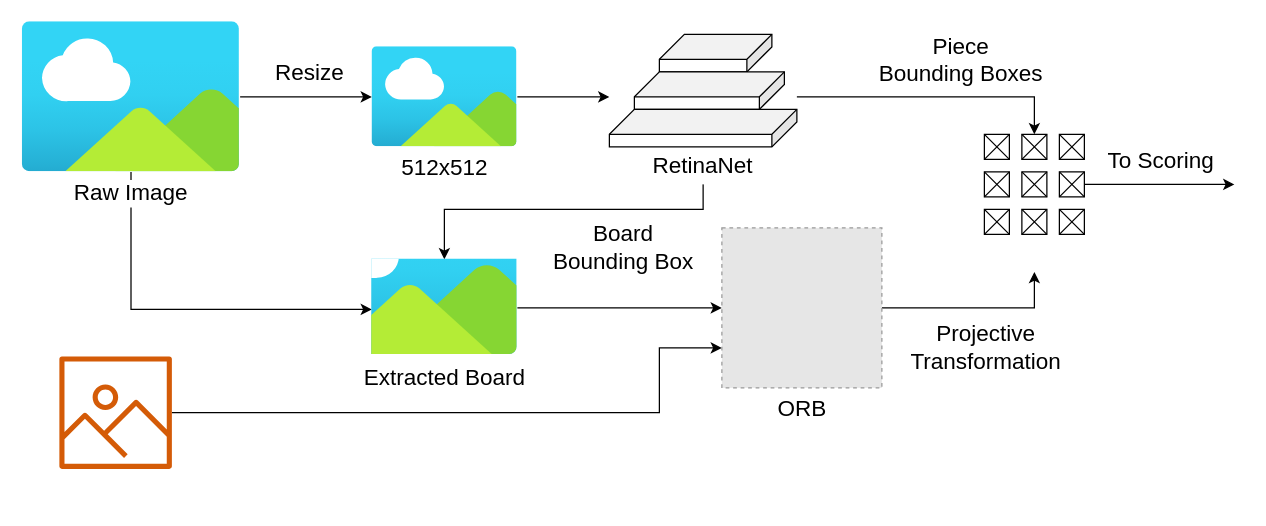
This 1266x526 diagram has some shape labels left out. Grey dashed boxes stand in for pictures. Here are the shapes that lost their labels. From the top down, the centre of each, then its label:
At point (1033, 183): "Output Grid".
At point (115, 412): "Reference Image".
